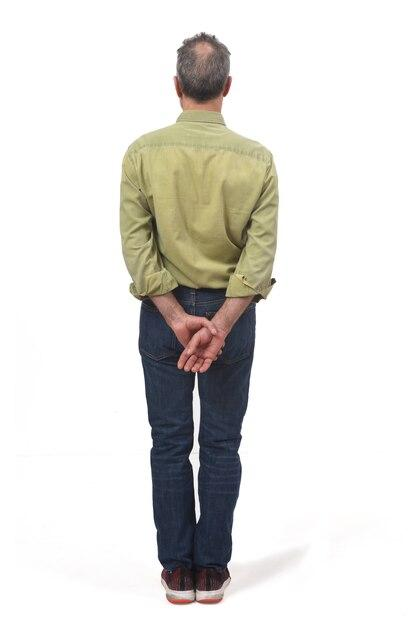Human: (109, 37, 334, 626)
